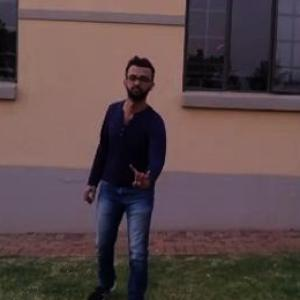takeoff-hand: (125, 156, 159, 196)
